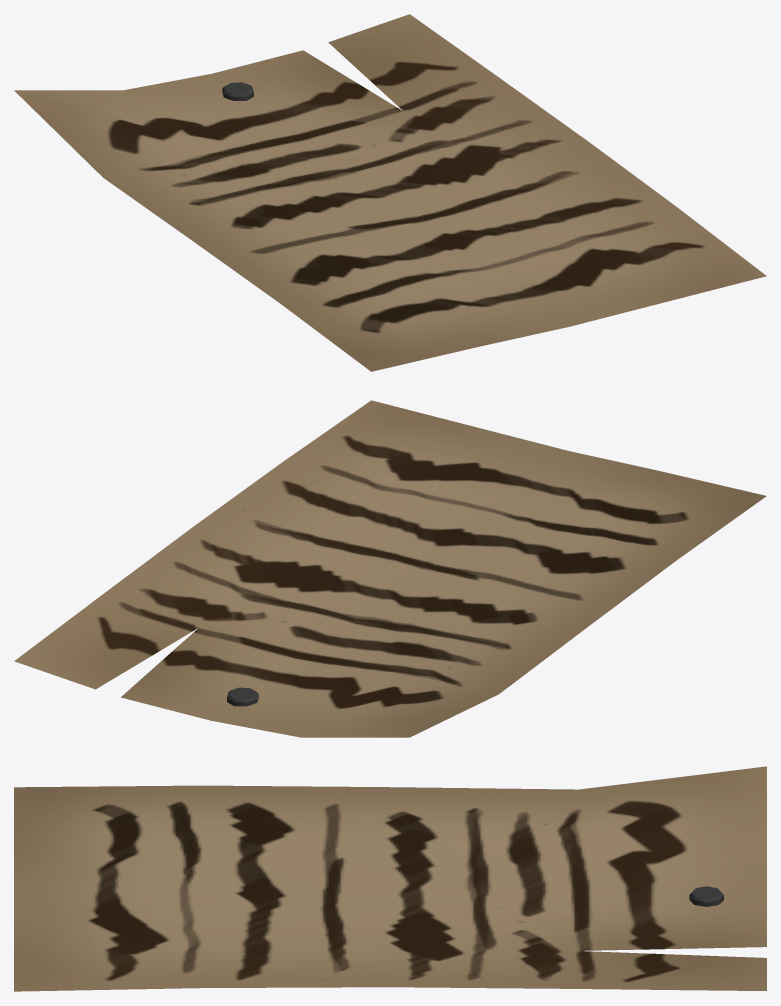
File: SM_Page_00.fbx
3 views of the same model, one above another, from view 1: azimuth 30°, elevation 25°; view 2: azimuth 150°, elevation 25°; view 3: azimuth 270°, elevation 25° (orthographic). The views are drawn at different scales.
Parts seen in each view (by area): view 1: pCylinder3; view 2: pCylinder3; view 3: pCylinder3.
Part boxes in pixels (<box>): pCylinder3: <box>14,14,766,371</box>; pCylinder3: <box>14,400,766,737</box>; pCylinder3: <box>14,766,766,991</box>.
Size of the model in its own units: 37.21 by 3.03 by 58.19.
2 materials, 1 textured.
